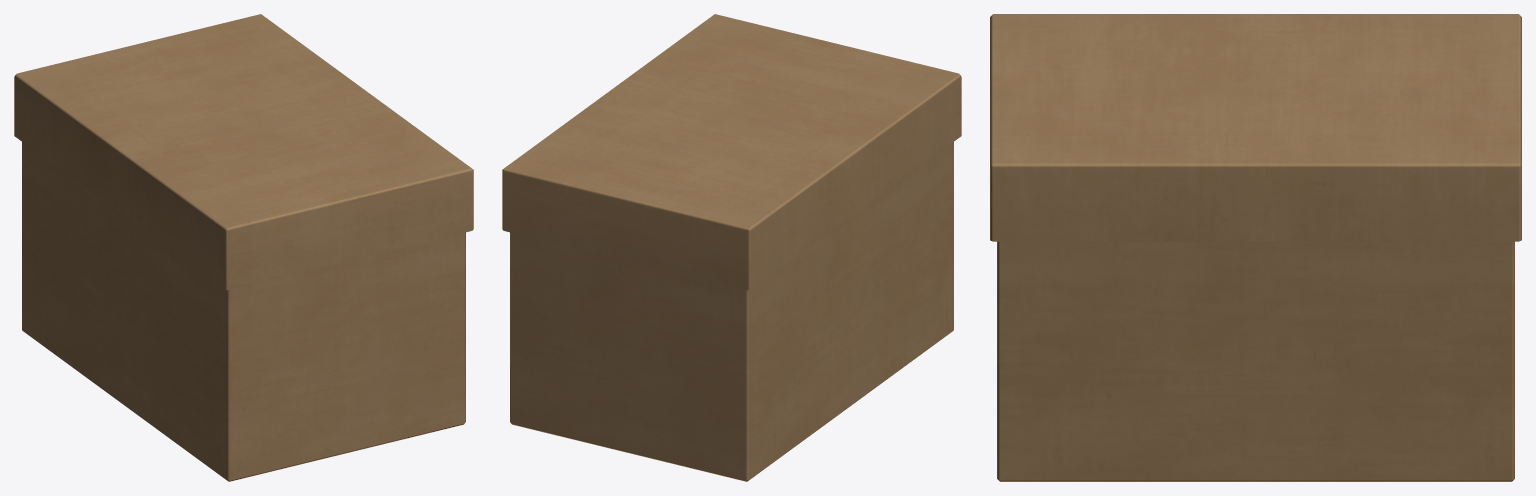
The model's file is SM_CardboardBox_01_Closed.fbx.
The picture shows the model from 3 angles, left to right: view 1: azimuth 30°, elevation 25°; view 2: azimuth 150°, elevation 25°; view 3: azimuth 270°, elevation 25°; orthographic projection. The views are drawn at different scales.
Parts seen in each view (by area): view 1: SM_CardboardBox_01_Closed_LOD0; view 2: SM_CardboardBox_01_Closed_LOD0; view 3: SM_CardboardBox_01_Closed_LOD0.
Boxes of the visible parts, x1,y1,x2,y2 form: SM_CardboardBox_01_Closed_LOD0: [14, 14, 473, 481]; SM_CardboardBox_01_Closed_LOD0: [502, 14, 961, 481]; SM_CardboardBox_01_Closed_LOD0: [990, 14, 1521, 481].
Bounding box in the file's own units: 20.79 × 30.79 × 20.56.
